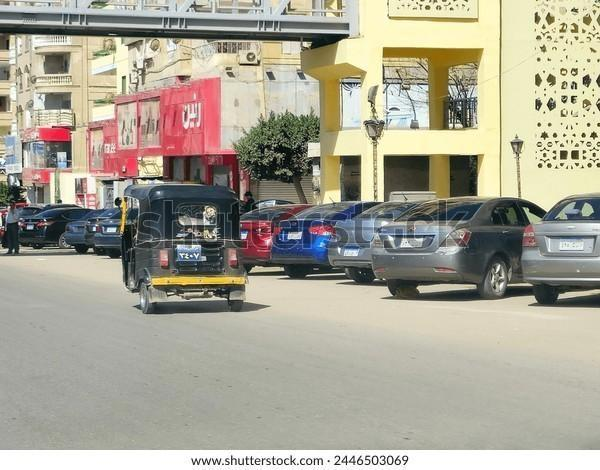keke: (113, 174, 258, 329)
